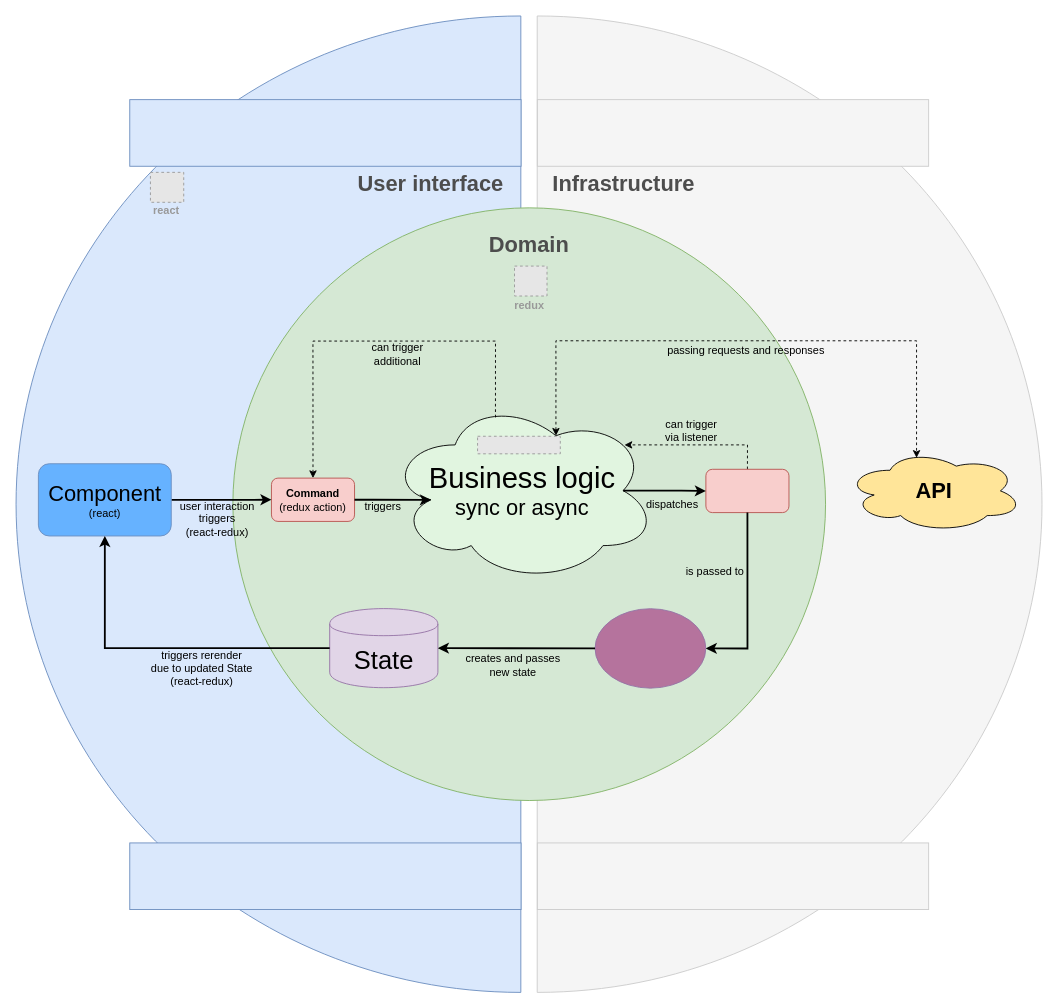
Image size: 1058x1008. Some labels were removed from this diagram. Grey dashed boxes stand in for pictures. Here are the shapes that lost their labels. From the top down, the centre of each, then its label:
[747,490]: Event (redux action)
[650,648]: Reducer
